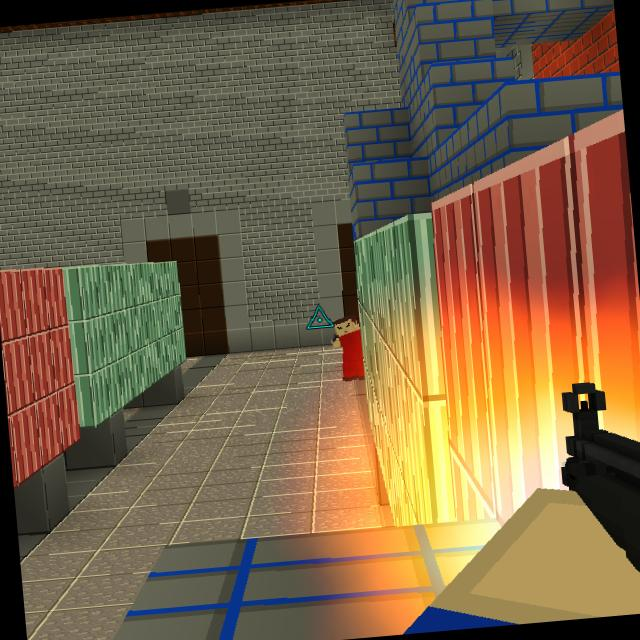enemy: (329, 308, 364, 383)
